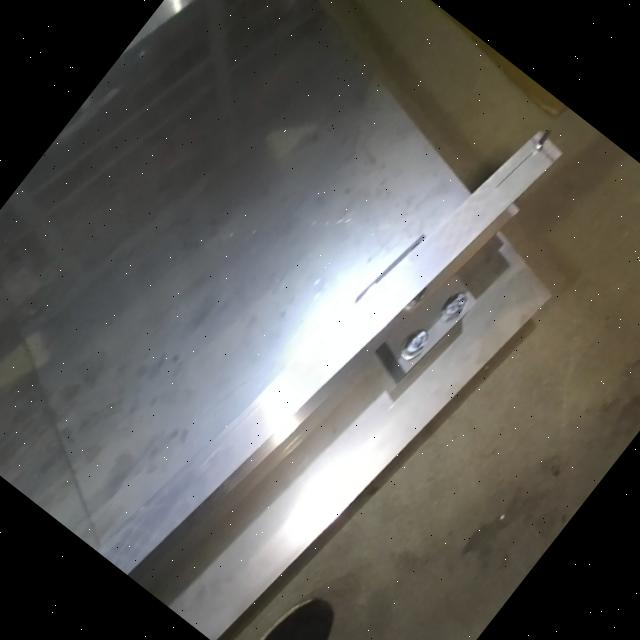blocks: (332, 221, 497, 392)
